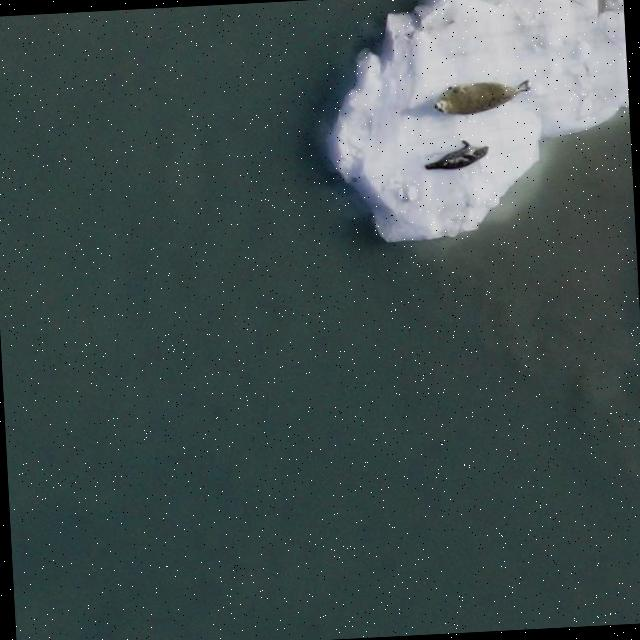seal: (432, 77, 533, 116), (421, 130, 493, 184)
